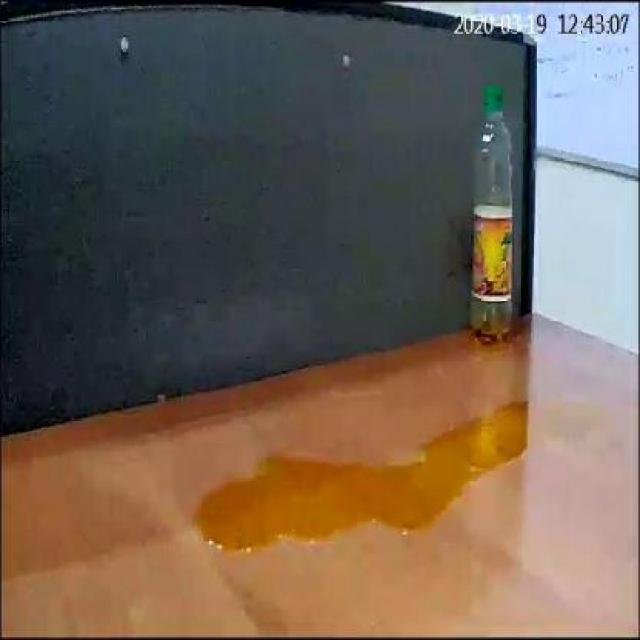spill: (193, 396, 573, 550)
